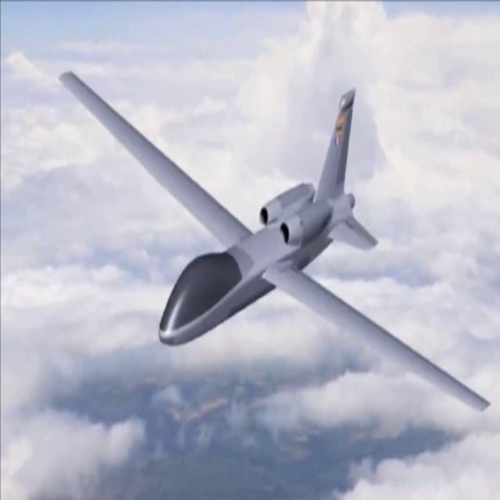uav: (56, 67, 492, 416)
